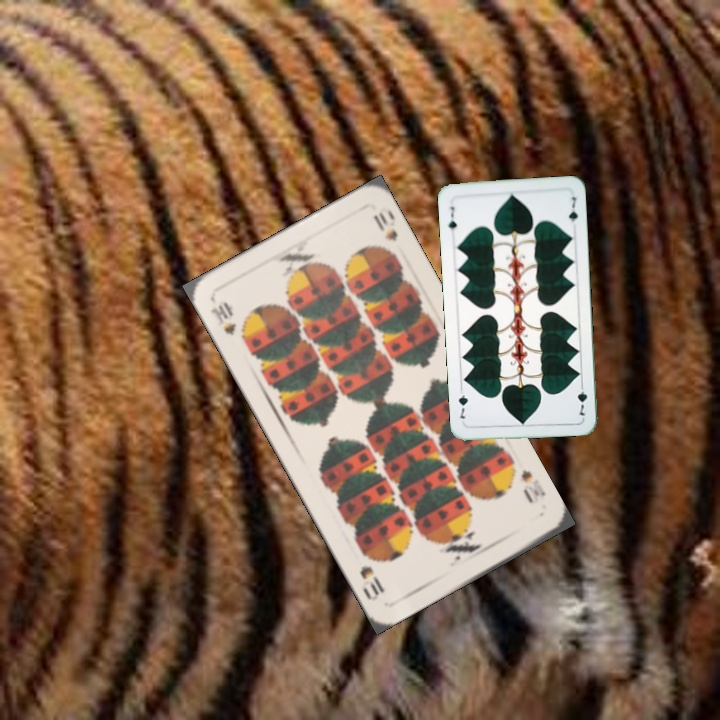G7: (573, 379, 590, 418), (445, 202, 459, 232)
S10: (206, 298, 239, 339), (517, 464, 549, 506)
